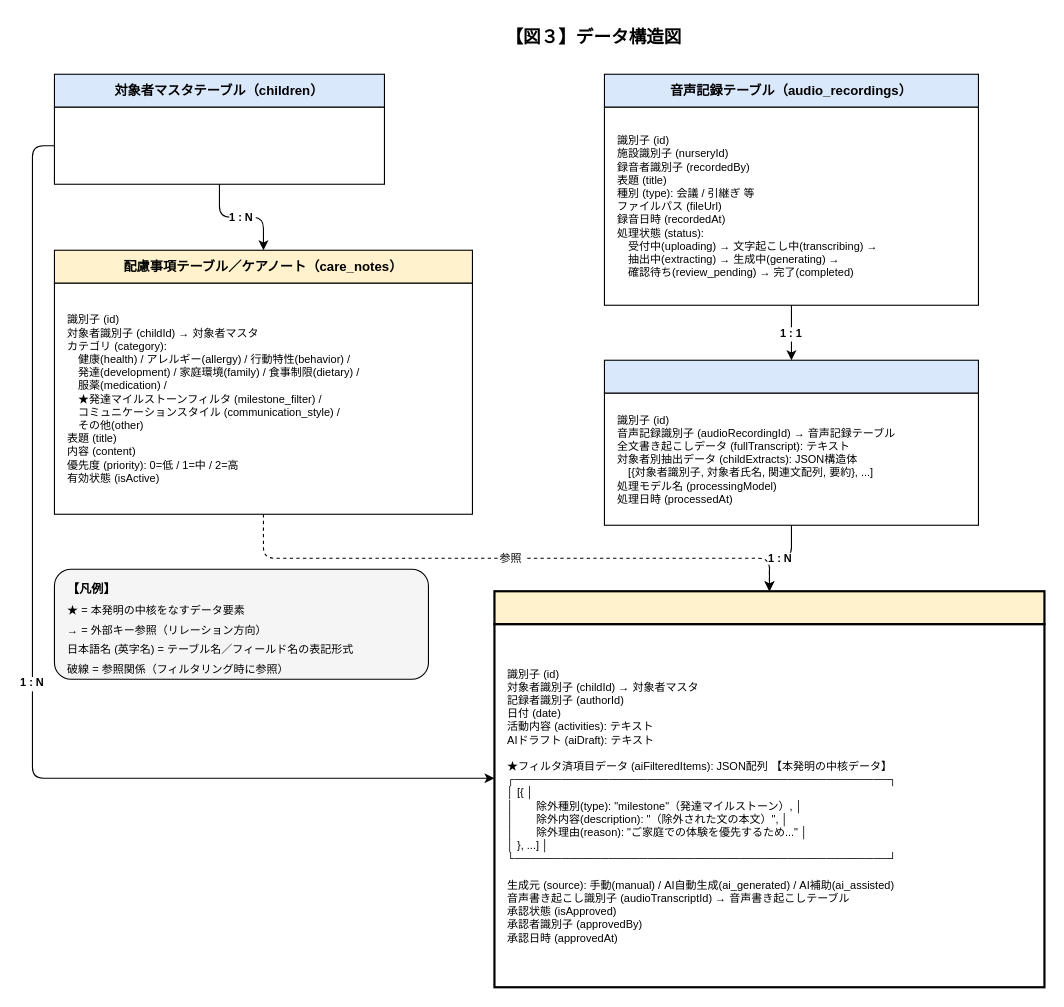
This 1064x1007 diagram has some shape labels left out. The centre of each missing label's shape, as x and y in pixels:
"報告文書テーブル／連絡帳（contact_book_entries）" goes at pixel 769 607.
"識別子 (id) 氏名 (name) 施設識別子 (nurseryId) クラス識別子 (classId)" goes at pixel 218 145.
"音声書き起こしテーブル（audio_transcripts）" goes at pixel 790 376.
